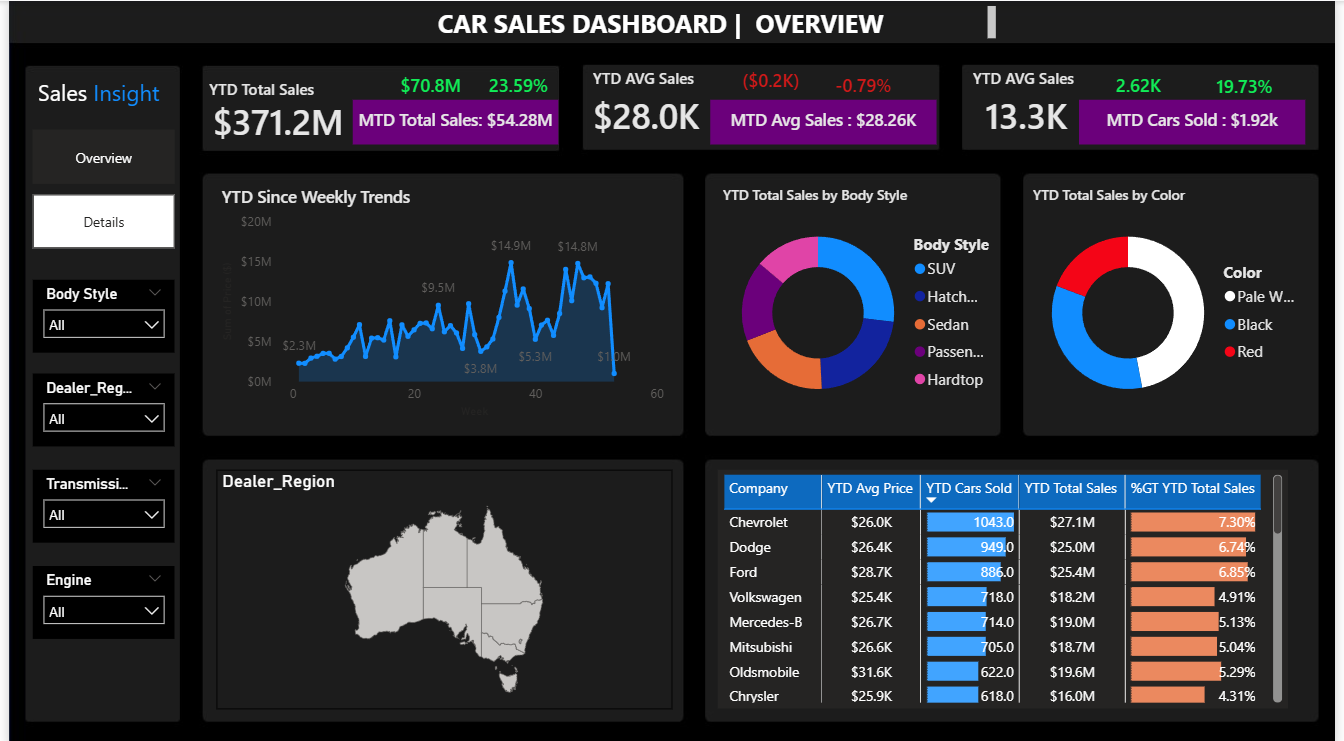

The dashboard page shown, as its layout file describes it:
{"tool":"powerbi","page":{"name":"Overview","canvas":[1280,720],"ordinal":0},"visuals":[{"type":"card","title":"YTD Total Sales","fields":{"Values":["car_data.YTD Total Sales"]},"box":[188.6,74.3,142.9,64.3],"z":0},{"type":"card","title":"Sales Difference","fields":{"Values":["car_data.Sales Difference"]},"box":[355.7,60,102.9,45.7],"z":1000},{"type":"card","title":"Sales Difference","fields":{"Values":["car_data.YoY Sales Growth"]},"box":[440,60,102.9,45.7],"z":2000},{"type":"card","fields":{"Values":["car_data.MTD KPI"]},"box":[331.4,95.7,198.6,42.9],"z":3000},{"type":"card","title":"YTD AVG Sales","fields":{"Values":["car_data.YTD Avg Price"]},"box":[558.6,64.3,112.9,74.3],"z":4000},{"type":"card","title":"Sales Difference","fields":{"Values":["car_data.Avg Price Diff"]},"box":[684.3,55.7,102.9,45.7],"z":5000},{"type":"card","title":"Sales Difference","fields":{"Values":["car_data.YoY Avg Price Growth"]},"box":[772.9,60,102.9,45.7],"z":6000},{"type":"card","fields":{"Values":["car_data.MTD Avg Price KPI"]},"box":[677.1,95.7,218.6,42.9],"z":7000},{"type":"card","title":"YTD AVG Sales","fields":{"Values":["car_data.YTD Cars Sold"]},"box":[925.7,64.3,112.9,74.3],"z":8000},{"type":"card","title":"Sales Difference","fields":{"Values":["car_data.Cars Sold Diff"]},"box":[1038.6,60,102.9,45.7],"z":9000},{"type":"card","title":"Sales Difference","fields":{"Values":["car_data.YoY Car Sold Growth"]},"box":[1141.4,61.4,102.9,45.7],"z":10000},{"type":"card","fields":{"Values":["car_data.MTD Cars Sold KPI"]},"box":[1032.9,95.7,218.6,42.9],"z":11000},{"type":"areaChart","title":"YTD Since Weekly Trends","fields":{"Category":["CalendarTable.Week"],"Y":["Sum(car_data.Price ($))"]},"box":[200,177.1,440,230],"z":12000},{"type":"donutChart","fields":{"Category":["car_data.Body Style"],"Y":["car_data.YTD Total Sales"]},"box":[684.3,177.1,272.9,230],"z":13000},{"type":"donutChart","fields":{"Y":["car_data.YTD Total Sales"],"Category":["car_data.Color"]},"box":[982.9,177.1,272.9,230],"z":14000},{"type":"shapeMap","fields":{"Category":["car_data.Dealer_Region"]},"box":[200,452.9,440,231.4],"z":15000},{"type":"tableEx","fields":{"Values":["car_data.Company","car_data.YTD Avg Price","car_data.YTD Cars Sold","car_data.YTD Total Sales1","car_data.YTD Total Sales"]},"box":[684.3,452.9,550,230],"z":16000},{"type":"textbox","box":[307.1,0,650,41.4],"z":17000},{"type":"slicer","fields":{"Values":["car_data.Body Style"]},"box":[22.9,268.6,137.1,70],"z":18000},{"type":"slicer","fields":{"Values":["car_data.Dealer_Region"]},"box":[22.9,360,137.1,70],"z":19000},{"type":"slicer","fields":{"Values":["car_data.Transmission"]},"box":[22.9,452.9,137.1,70],"z":20000},{"type":"slicer","fields":{"Values":["car_data.Engine"]},"box":[22.9,545.7,137.1,70],"z":21000},{"type":"textbox","box":[22.9,68.6,137.1,55.7],"z":21001},{"type":"pageNavigator","box":[22.9,124.3,137.1,115.7],"z":21002}]}

Visuals, with their boxes in screenshot pixels (x1, y1, x2, y2), scaled from the page's 1280x720 canvas onto the 1344x741 screenshot:
"YTD Total Sales" card: BBox(198, 76, 348, 143)
"Sales Difference" card: BBox(373, 62, 482, 109)
"Sales Difference" card: BBox(462, 62, 570, 109)
card - car_data.MTD KPI: BBox(348, 98, 556, 143)
"YTD AVG Sales" card: BBox(587, 66, 705, 143)
"Sales Difference" card: BBox(719, 57, 827, 104)
"Sales Difference" card: BBox(812, 62, 920, 109)
card - car_data.MTD Avg Price KPI: BBox(711, 98, 940, 143)
"YTD AVG Sales" card: BBox(972, 66, 1091, 143)
"Sales Difference" card: BBox(1091, 62, 1199, 109)
"Sales Difference" card: BBox(1198, 63, 1307, 110)
card - car_data.MTD Cars Sold KPI: BBox(1085, 98, 1314, 143)
"YTD Since Weekly Trends" areaChart: BBox(210, 182, 672, 419)
donutChart - car_data.Body Style x car_data.YTD Total Sales: BBox(719, 182, 1005, 419)
donutChart - car_data.YTD Total Sales x car_data.Color: BBox(1032, 182, 1319, 419)
shapeMap - car_data.Dealer_Region: BBox(210, 466, 672, 704)
tableEx - car_data.Company x car_data.YTD Avg Price: BBox(719, 466, 1296, 703)
textbox: BBox(322, 0, 1005, 43)
slicer - car_data.Body Style: BBox(24, 276, 168, 348)
slicer - car_data.Dealer_Region: BBox(24, 370, 168, 443)
slicer - car_data.Transmission: BBox(24, 466, 168, 538)
slicer - car_data.Engine: BBox(24, 562, 168, 634)
textbox: BBox(24, 71, 168, 128)
pageNavigator: BBox(24, 128, 168, 247)
